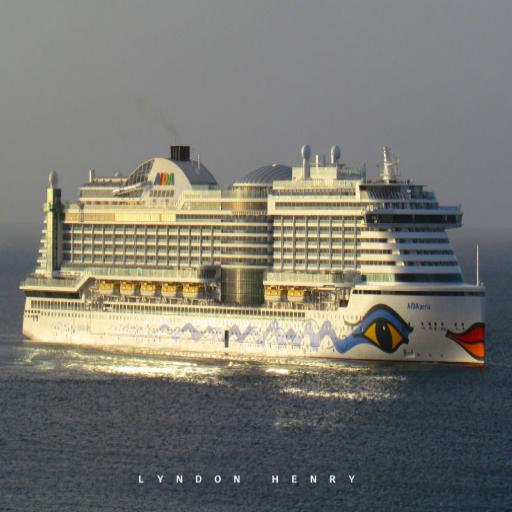cruises: (19, 105, 490, 378)
